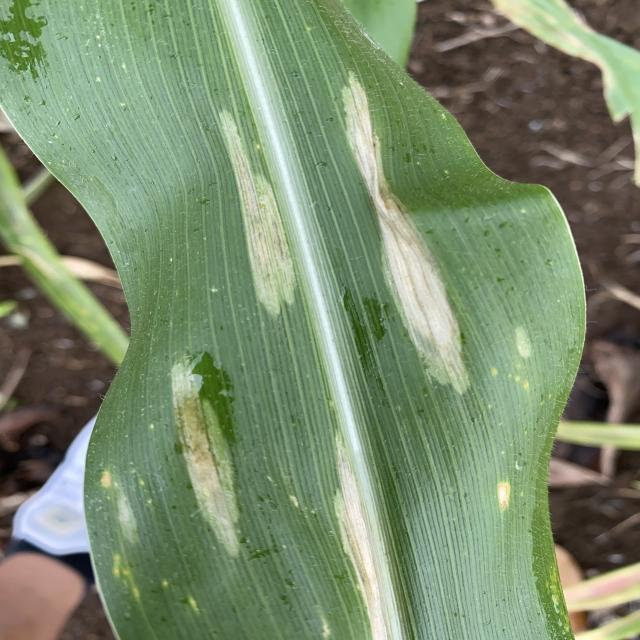Corn_Leaf_Blight: (78, 1, 583, 640)
